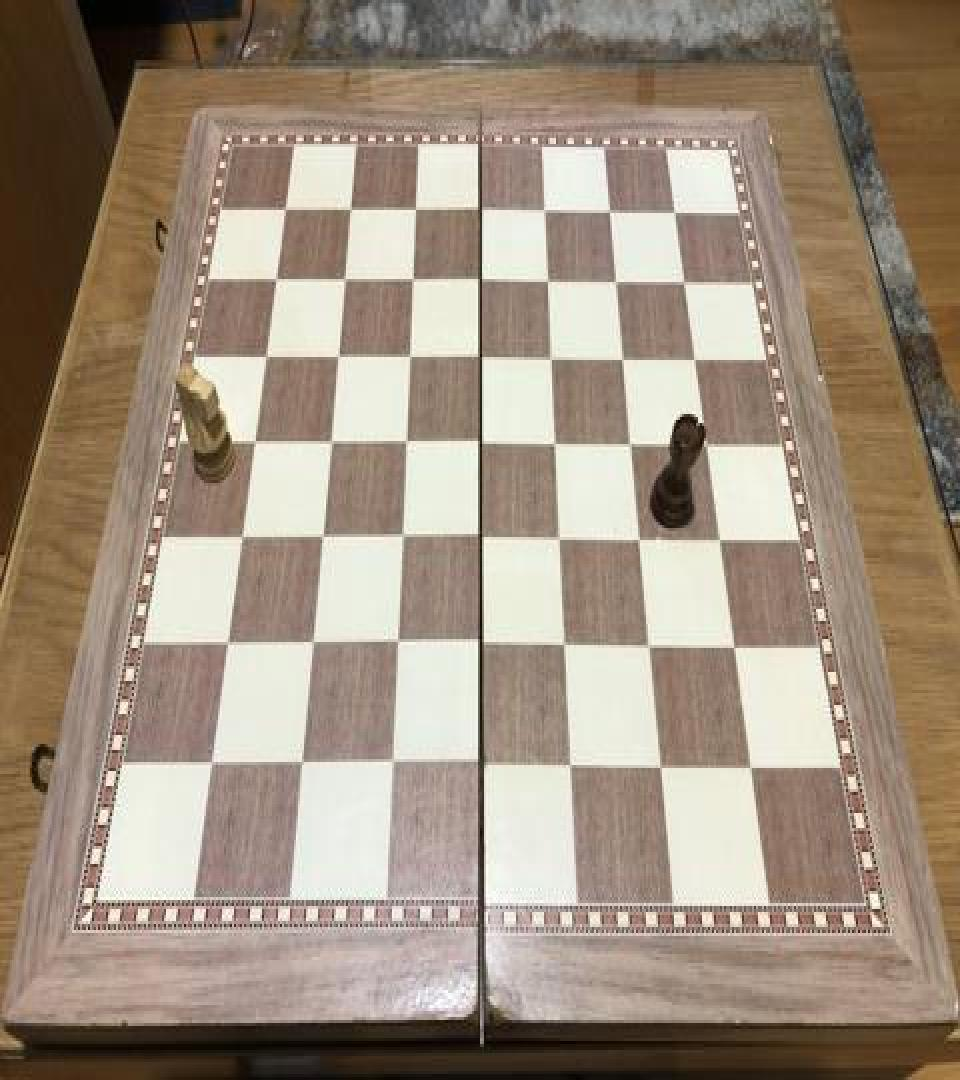xcorner: (552, 631, 576, 668), (467, 631, 491, 668), (382, 631, 406, 668), (298, 631, 322, 668), (741, 754, 765, 791), (649, 754, 673, 791), (558, 754, 582, 791), (663, 194, 687, 230), (597, 194, 621, 230), (532, 194, 556, 230), (467, 195, 491, 231), (402, 195, 426, 231), (337, 195, 361, 231), (272, 196, 296, 232), (673, 264, 697, 300), (604, 264, 628, 300), (535, 264, 559, 300), (467, 266, 491, 302), (398, 266, 422, 302), (331, 266, 355, 302), (263, 266, 287, 302), (683, 342, 707, 378), (611, 342, 635, 378), (539, 342, 563, 378), (467, 342, 491, 378), (395, 342, 419, 378), (695, 428, 719, 464), (619, 428, 643, 464), (543, 428, 567, 464), (467, 429, 491, 465), (391, 429, 415, 465), (316, 429, 340, 465), (241, 429, 265, 465), (709, 525, 733, 561), (628, 525, 652, 561), (547, 524, 571, 560), (467, 524, 491, 560), (387, 524, 411, 560), (308, 524, 332, 560), (228, 524, 252, 560), (724, 633, 748, 669), (638, 633, 662, 669), (214, 630, 238, 666), (467, 753, 491, 789), (377, 753, 401, 789), (287, 752, 311, 788), (198, 752, 222, 788), (324, 344, 348, 379), (253, 344, 277, 379)
